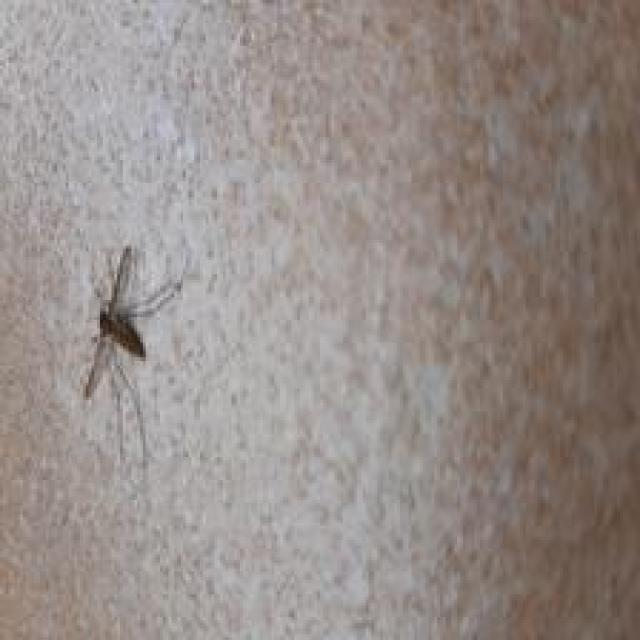Culex: (80, 243, 186, 474)
